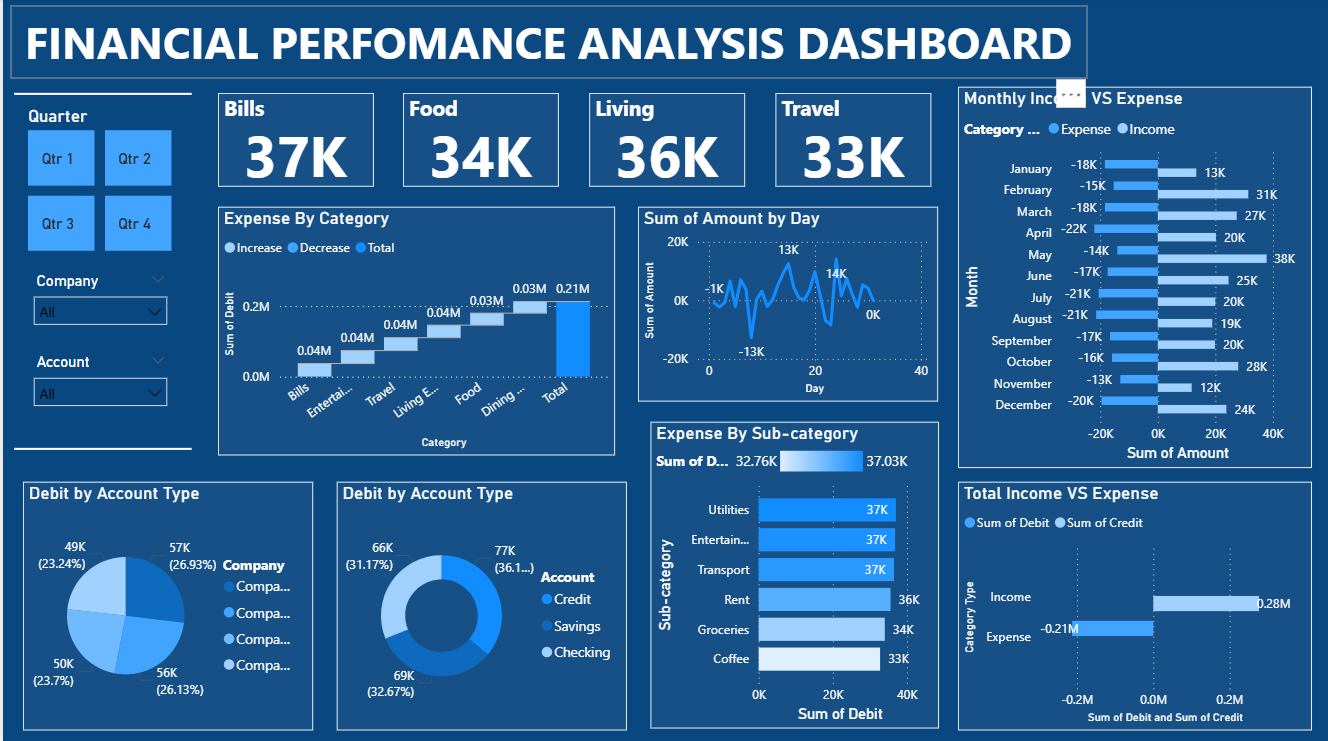

What the dashboard file says about the page in this screenshot:
{"tool":"powerbi","page":{"name":"Page 1","canvas":[1280,720],"ordinal":0},"visuals":[{"type":"textbox","box":[6.9,6.9,1038.8,70],"z":0},{"type":"card","title":"Bills","fields":{"Values":["Sum(Generated_Finance_Expenses (2).Debit)"]},"box":[207.2,91.9,150,90],"z":1000},{"type":"card","title":"Travel","fields":{"Values":["Sum(Generated_Finance_Expenses (2).Debit)"]},"box":[745.1,91.9,150,90],"z":2000},{"type":"card","title":"Food","fields":{"Values":["Sum(Generated_Finance_Expenses (2).Debit)"]},"box":[386.5,91.9,150,90],"z":3000},{"type":"card","title":"Living","fields":{"Values":["Sum(Generated_Finance_Expenses (2).Debit)"]},"box":[565.8,91.9,150,90],"z":4000},{"type":"donutChart","title":"Debit by Account Type","fields":{"Category":["Generated_Finance_Expenses (2).Account"],"Y":["Sum(Generated_Finance_Expenses (2).Debit)"]},"box":[321.8,466.6,280,240.1],"z":5000},{"type":"clusteredBarChart","title":"Total Income VS Expense","fields":{"Category":["Generated_Finance_Expenses (2).Category Type"],"Y":["Generated_Finance_Expenses (2).Sum of Debit","Sum(Generated_Finance_Expenses (2).Credit)"]},"box":[922.1,466.6,341.7,240.1],"z":6000},{"type":"waterfallChart","title":"Expense By Category","fields":{"Category":["Generated_Finance_Expenses (2).Category"],"Y":["Sum(Generated_Finance_Expenses (2).Debit)"]},"box":[207.2,201.7,382.8,240.1],"z":7000},{"type":"clusteredBarChart","title":"Expense By Sub-category","fields":{"Category":["Generated_Finance_Expenses (2).Sub-category"],"Y":["Sum(Generated_Finance_Expenses (2).Debit)"]},"box":[624.4,408.9,278.6,296.4],"z":8000},{"type":"clusteredBarChart","title":"Monthly Income VS Expense","fields":{"Category":["Generated_Finance_Expenses (2).Date.Variation.Date Hierarchy.Month"],"Y":["Sum(Generated_Finance_Expenses (2).Amount)"],"Series":["Generated_Finance_Expenses (2).Category Type"]},"box":[922.1,85.1,341.7,367.8],"z":9000},{"type":"pieChart","title":"Debit by Account Type","fields":{"Y":["Sum(Generated_Finance_Expenses (2).Debit)"],"Category":["Generated_Finance_Expenses (2).Company"]},"box":[19.2,466.6,280,240.1],"z":10000},{"type":"advancedSlicerVisual","fields":{"Values":["Generated_Finance_Expenses (2).Date.Variation.Date Hierarchy.Quarter"]},"box":[19.2,104.3,149.6,145.5],"z":11000},{"type":"slicer","fields":{"Values":["Generated_Finance_Expenses (2).Company"]},"box":[19.2,259.3,149.6,75.5],"z":12000},{"type":"shape","box":[11,428.1,171.5,13.7],"z":13000},{"type":"shape","box":[11.4,85.1,171.5,13.7],"z":14000},{"type":"slicer","fields":{"Values":["Generated_Finance_Expenses (2).Account"]},"box":[19.2,337.6,149.6,75.5],"z":15000},{"type":"lineChart","fields":{"Y":["Sum(Generated_Finance_Expenses (2).Amount)"],"Category":["Generated_Finance_Expenses (2).Date.Variation.Date Hierarchy.Day"]},"box":[613.4,201.7,289.5,188],"z":16000}]}

Visuals, with their boxes in screenshot pixels (x1, y1, x2, y2), scaled from the page's 1280x720 canvas onto the 1328x741 screenshot:
textbox: (7, 7, 1085, 79)
"Bills" card: (215, 95, 371, 187)
"Travel" card: (773, 95, 929, 187)
"Food" card: (401, 95, 557, 187)
"Living" card: (587, 95, 743, 187)
"Debit by Account Type" donutChart: (334, 480, 624, 727)
"Total Income VS Expense" clusteredBarChart: (957, 480, 1311, 727)
"Expense By Category" waterfallChart: (215, 208, 612, 455)
"Expense By Sub-category" clusteredBarChart: (648, 421, 937, 726)
"Monthly Income VS Expense" clusteredBarChart: (957, 88, 1311, 466)
"Debit by Account Type" pieChart: (20, 480, 310, 727)
advancedSlicerVisual - Generated_Finance_Expenses (2).Date.Variation.Date Hierarchy.Quarter: (20, 107, 175, 257)
slicer - Generated_Finance_Expenses (2).Company: (20, 267, 175, 345)
shape: (11, 441, 189, 455)
shape: (12, 88, 190, 102)
slicer - Generated_Finance_Expenses (2).Account: (20, 347, 175, 425)
lineChart - Sum(Generated_Finance_Expenses (2).Amount) x Generated_Finance_Expenses (2).Date.Variation.Date Hierarchy.Day: (636, 208, 937, 401)
